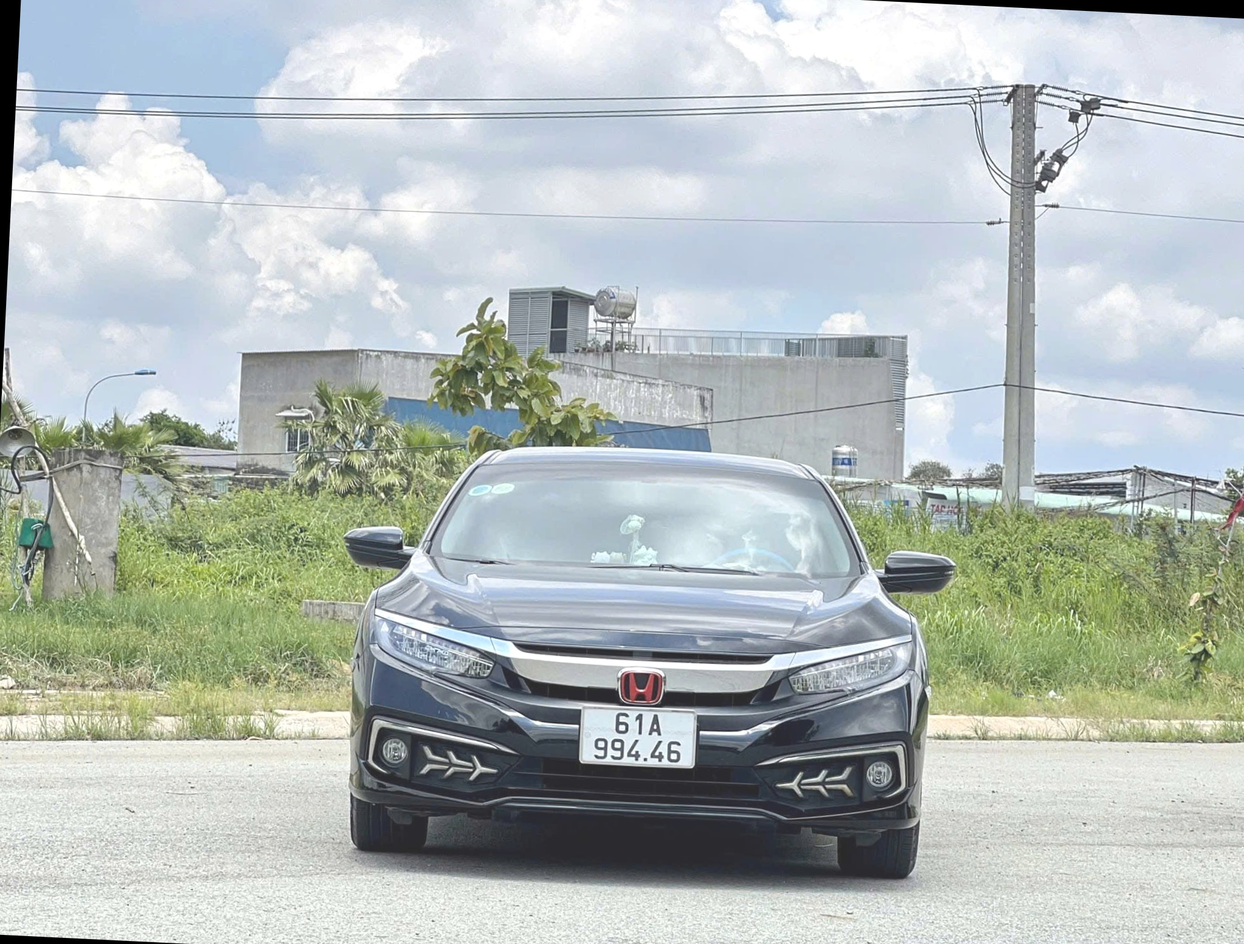Bien-so: (583, 666, 696, 734)
